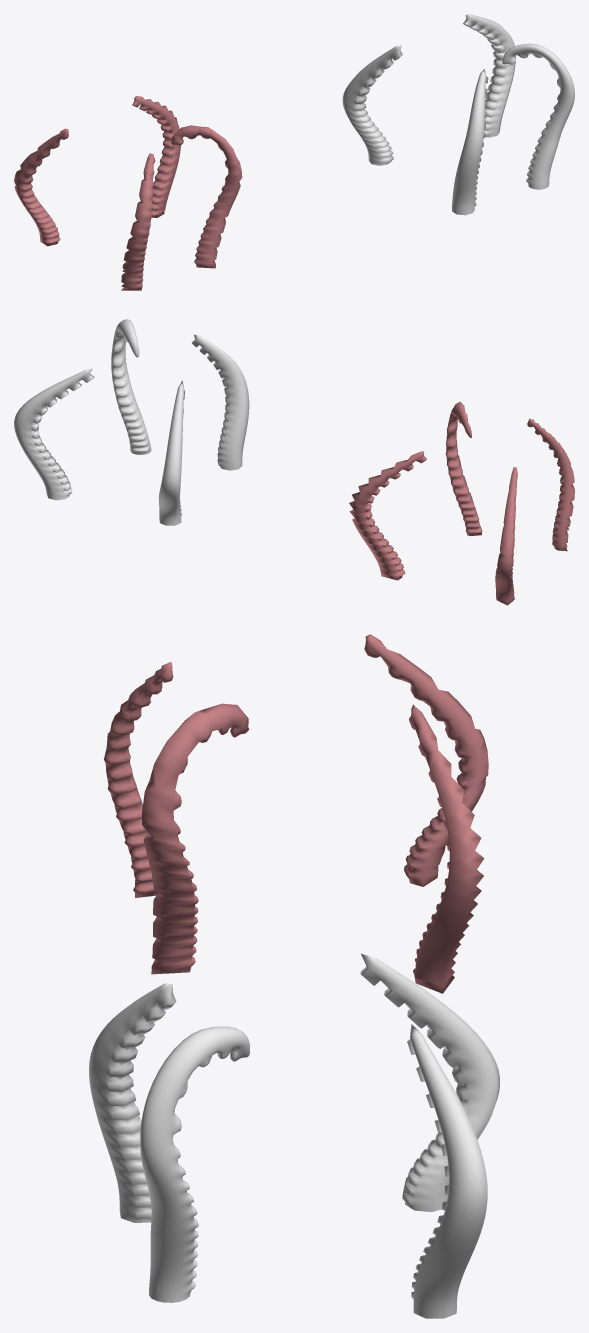
The model's file is Pulpo.fbx.
3 renders of one model, top to bottom at view 1: azimuth 30°, elevation 25°; view 2: azimuth 150°, elevation 25°; view 3: azimuth 270°, elevation 25°, orthographic. The views are drawn at different scales.
Visible parts, largest first — view 1: Backup, NurbsPath.001; view 2: Backup, NurbsPath.001; view 3: Backup, NurbsPath.001.
Part boxes in pixels (x1,y1,x2,y2): Backup: (342,14,574,215); NurbsPath.001: (14,96,242,290); Backup: (14,319,249,525); NurbsPath.001: (349,401,574,605); Backup: (89,953,499,1318); NurbsPath.001: (104,634,488,993).
Size of the model in its own units: 4076 by 1049 by 1464.
